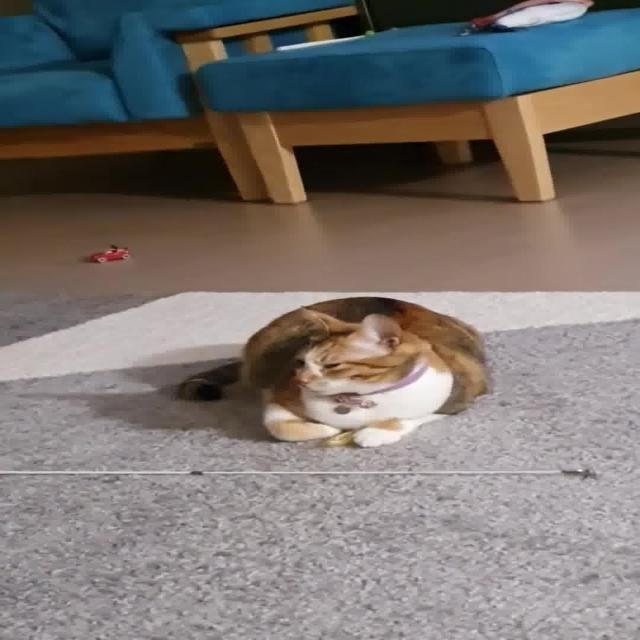cat: (166, 297, 513, 454)
